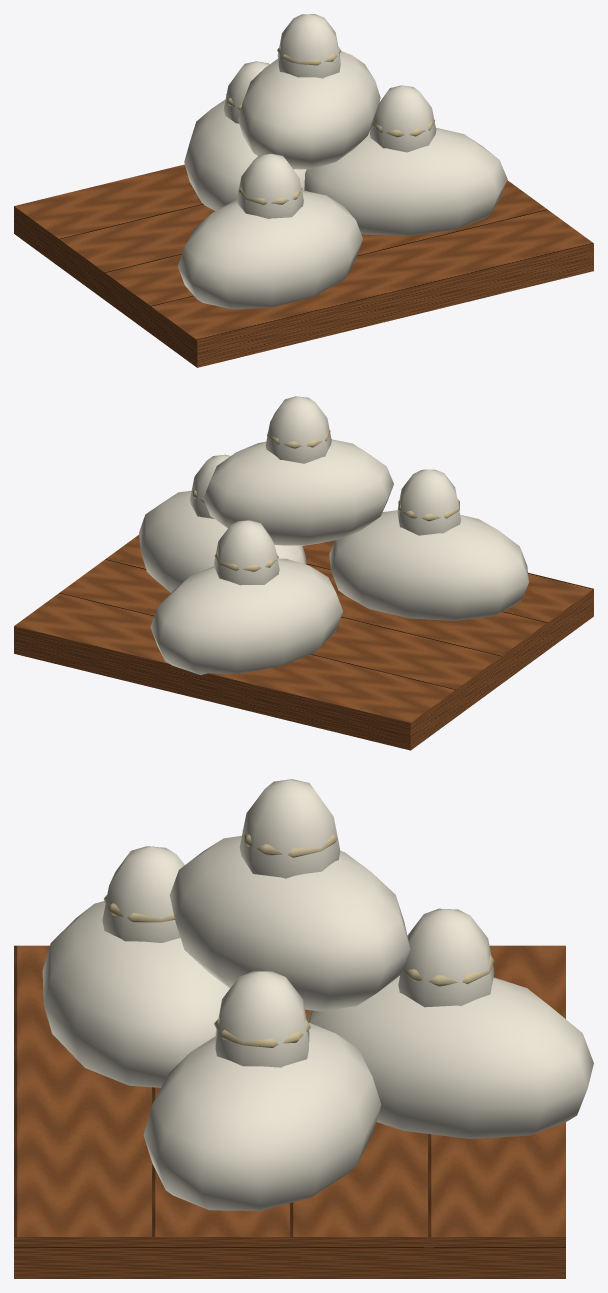
The model's file is wild-west-frontier-town-grain-sack-stack-e8a1dcab__30105.glb.
3 views of the same model, one above another, from view 1: azimuth 30°, elevation 25°; view 2: azimuth 150°, elevation 25°; view 3: azimuth 270°, elevation 25° (orthographic). The views are drawn at different scales.
Visible parts, largest first — view 1: grain-sack-stack; view 2: grain-sack-stack; view 3: grain-sack-stack.
Part boxes in pixels (box(x1,y1,x2,y2)): grain-sack-stack: box(14, 14, 593, 367); grain-sack-stack: box(14, 396, 593, 750); grain-sack-stack: box(14, 779, 593, 1278).
Bounding box in the file's own units: 1.5 × 0.8546 × 1.26.
Materials: 3 (1 with a texture image).
